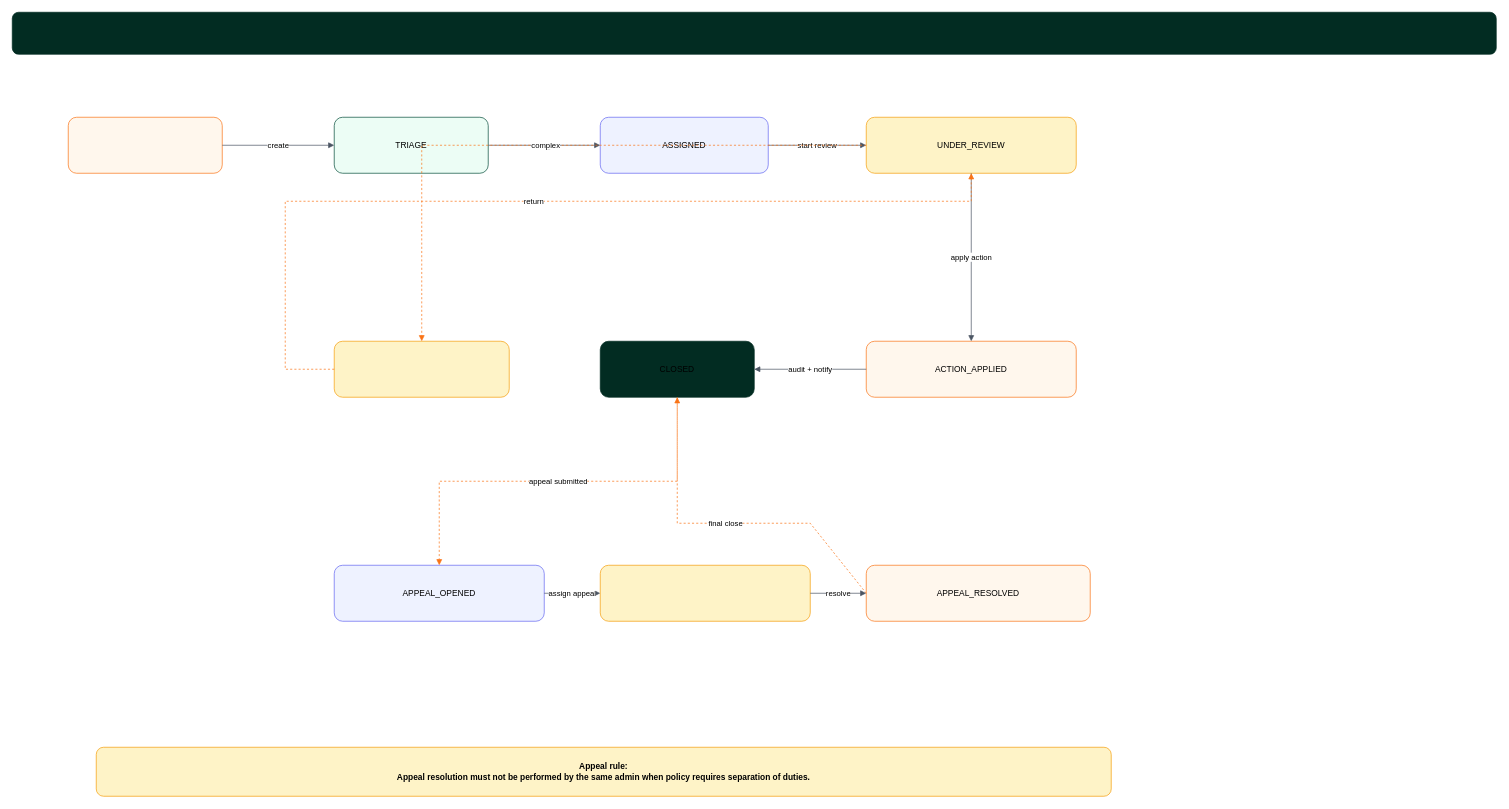
This 1509x809 diagram has some shape labels left out. The centre of each missing label's shape, as x and y in pixels:
"APPEAL_REVIEW" belongs at (x=705, y=593).
"ESCALATED" belongs at (x=421, y=369).
"OPENED" belongs at (x=145, y=145).
"Viaverse Admin Case / Appeal — State Diagram" belongs at (x=754, y=33).
